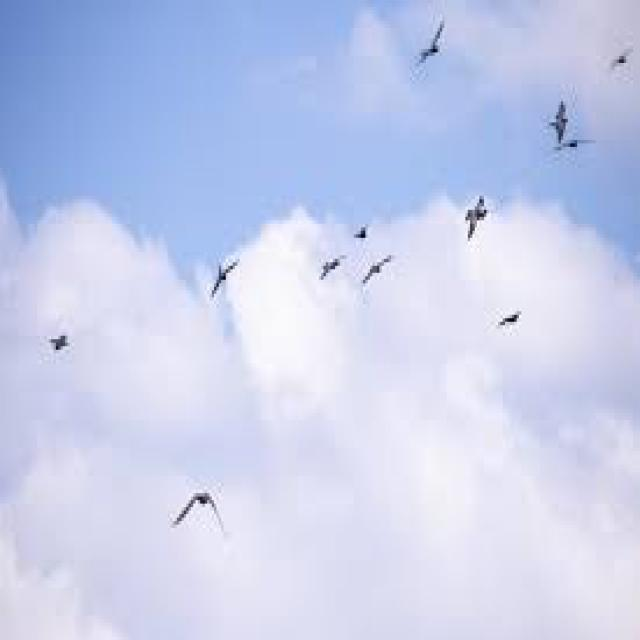bird: (160, 462, 236, 566), (412, 15, 456, 96), (40, 320, 93, 383), (207, 238, 249, 315), (452, 162, 488, 244), (533, 100, 577, 162), (343, 207, 378, 270), (308, 240, 344, 300), (363, 247, 396, 310), (483, 294, 534, 332), (552, 134, 602, 167), (596, 42, 640, 70)
